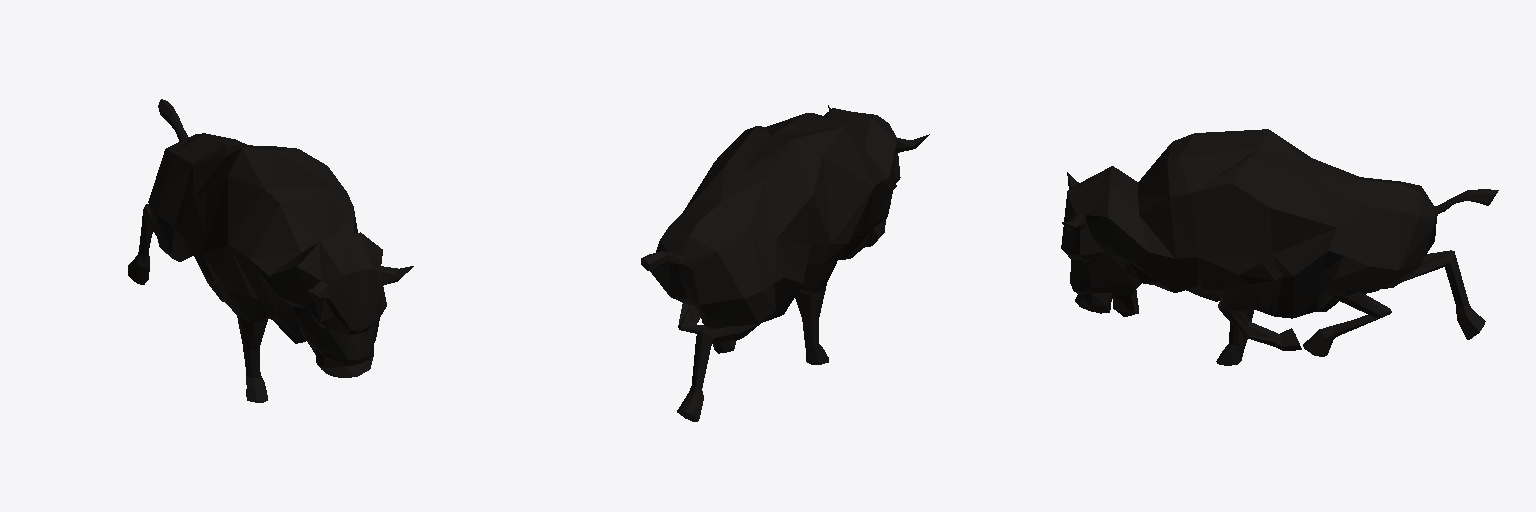
The model's file is bison_colorMap2.obj.
3 views of the same model, side by side, from view 1: azimuth 30°, elevation 25°; view 2: azimuth 150°, elevation 25°; view 3: azimuth 270°, elevation 25° (orthographic).
Visible parts, largest first — view 1: Mesh.001_comp_bison_rig:bison_; view 2: Mesh.001_comp_bison_rig:bison_; view 3: Mesh.001_comp_bison_rig:bison_.
Boxes of the visible parts, x1=… form: Mesh.001_comp_bison_rig:bison_: x1=128, y1=99, x2=413, y2=402; Mesh.001_comp_bison_rig:bison_: x1=641, y1=105, x2=929, y2=421; Mesh.001_comp_bison_rig:bison_: x1=1061, y1=129, x2=1498, y2=365.
Size of the model in its own units: 106 by 177 by 301.